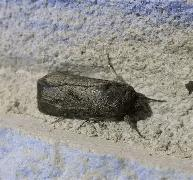army worm adult: (31, 46, 162, 146)
